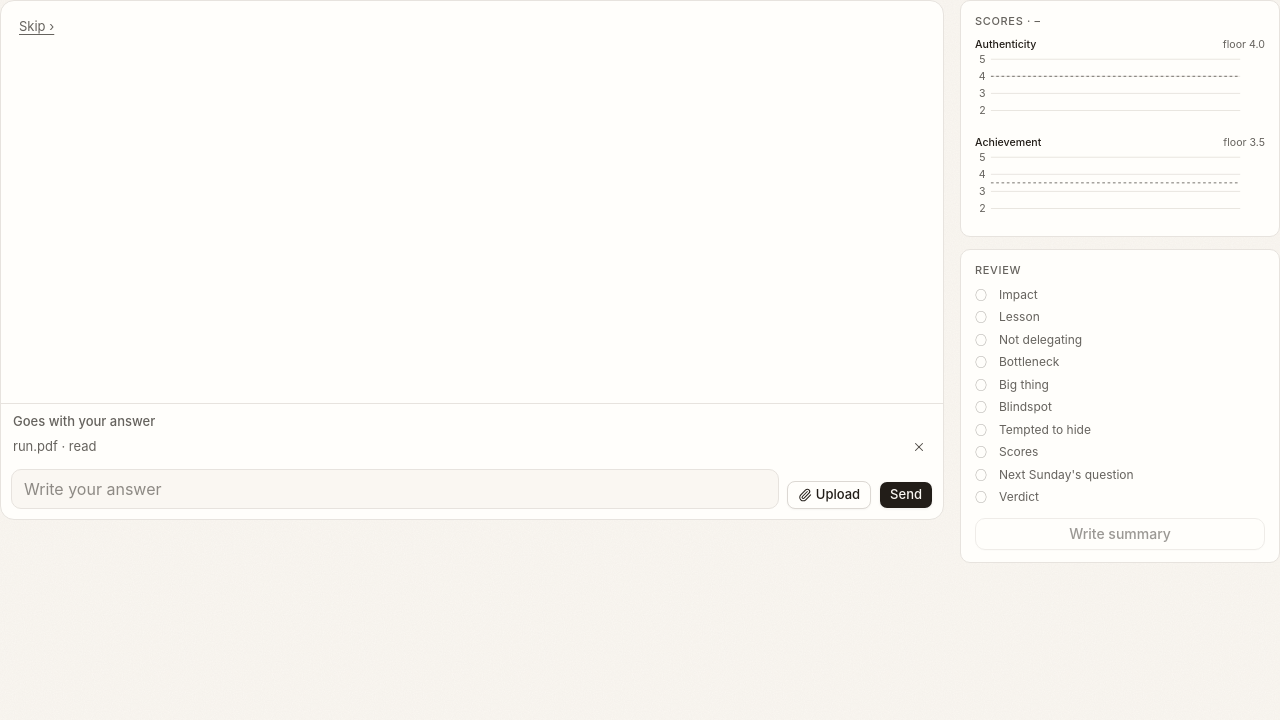
Test: files in the review's answer box › reads a pasted file and sends its text with the answer
Expected: the button with test id "planner-review-upload" is enabled, [787,481,871,509]
Expected: the button with test id "planner-review-upload" reads "Upload", [787,481,871,509]
Click the button "Send". click: [906, 495]
box: [879,481,933,509]
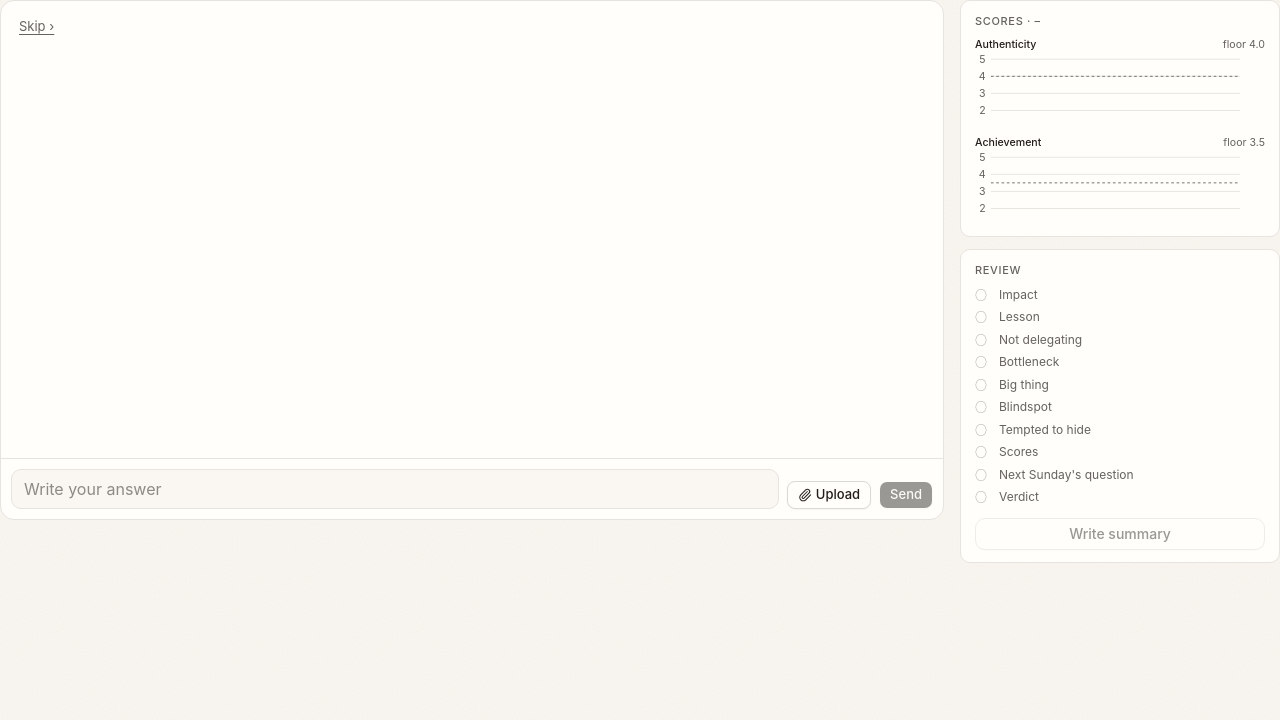
Result: the list with test id "planner-review-files" is gone
